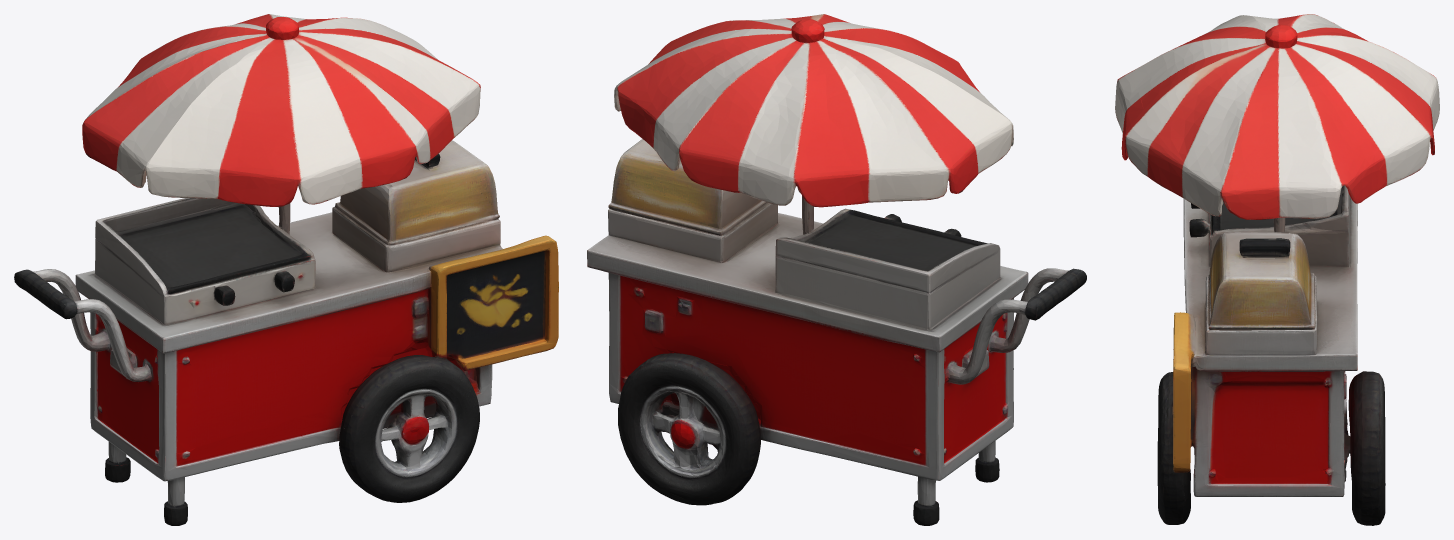
The model's file is cart_sam.glb.
The picture shows the model from 3 angles, left to right: view 1: azimuth 30°, elevation 25°; view 2: azimuth 150°, elevation 25°; view 3: azimuth 270°, elevation 25°; orthographic projection. The views are drawn at different scales.
Parts seen in each view (by area): view 1: geometry_0; view 2: geometry_0; view 3: geometry_0.
Boxes of the visible parts, bbox=[...] form: geometry_0: bbox=[14, 14, 558, 525]; geometry_0: bbox=[587, 14, 1086, 525]; geometry_0: bbox=[1115, 14, 1439, 525].
Size of the model in its own units: 0.9988 by 0.9338 by 0.6035.
Materials: 1 (1 with a texture image).
